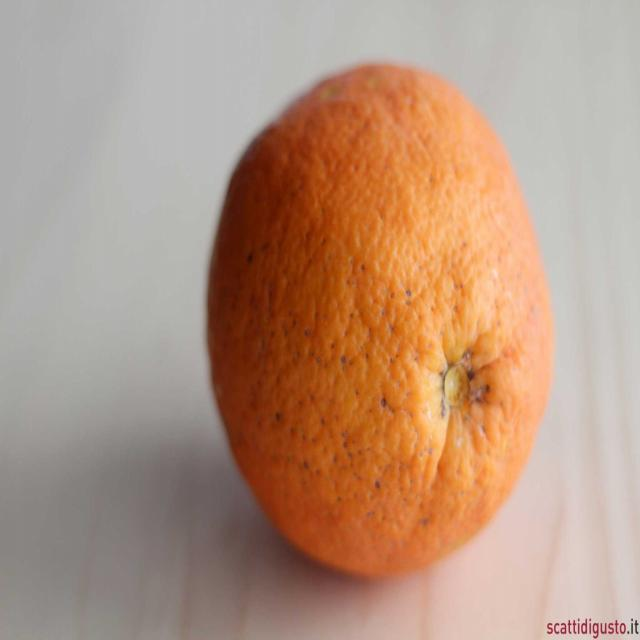Orange: (205, 64, 553, 581)
